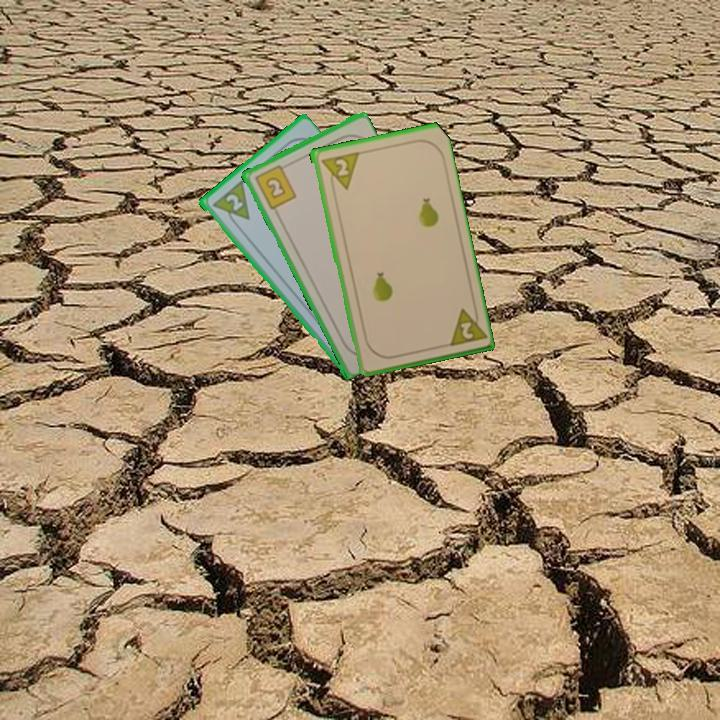2b: (251, 161, 299, 212)
2p: (316, 148, 361, 194), (222, 190, 246, 214), (456, 318, 476, 342)
